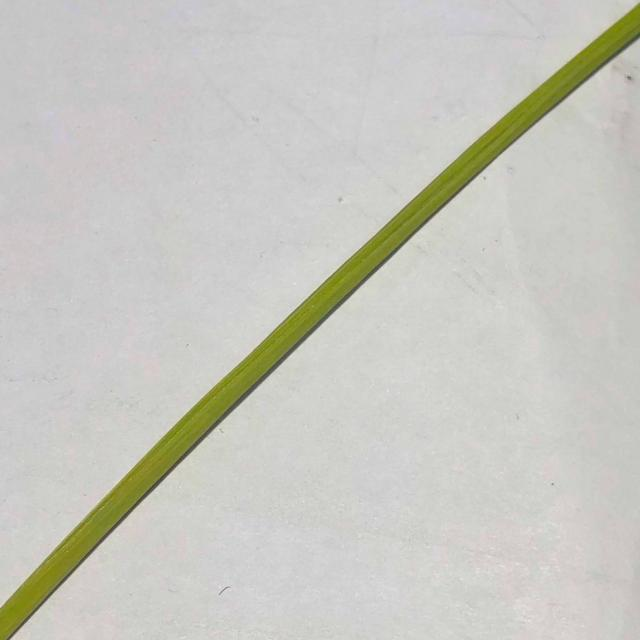Rice_Healthy: (0, 4, 640, 640)
